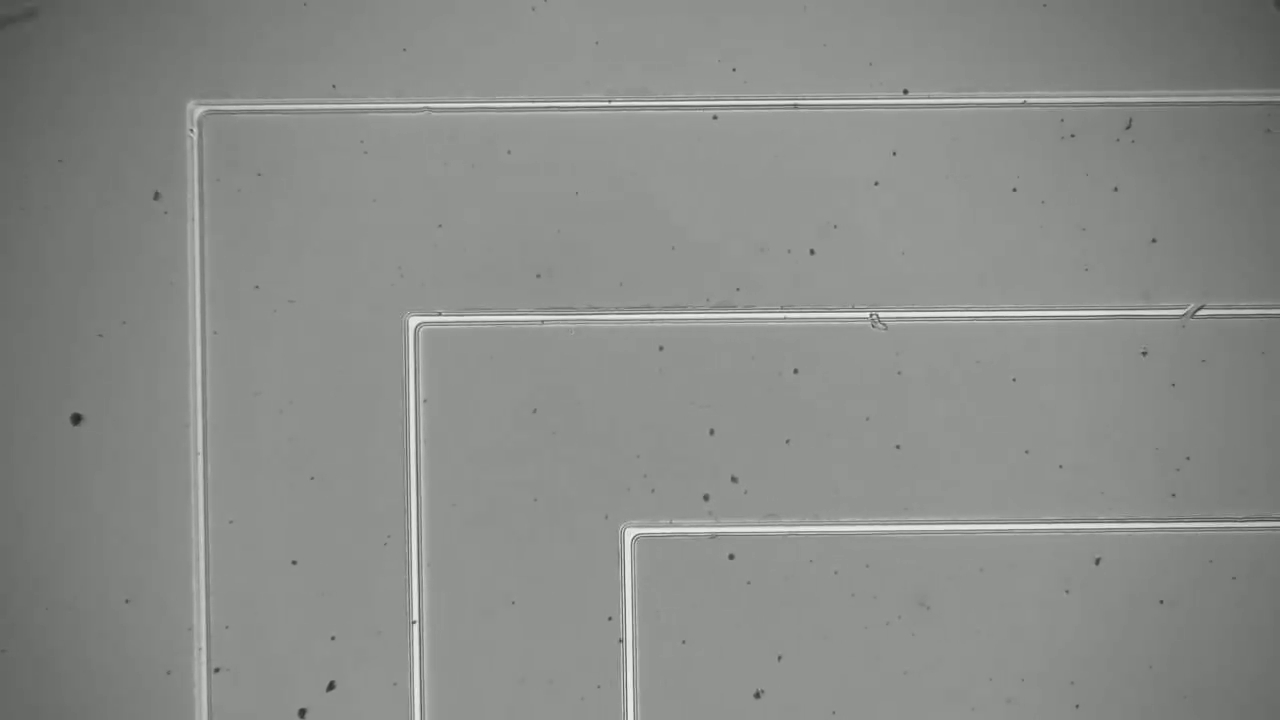open: (1178, 293, 1218, 336)
stains_enbedded: (860, 299, 897, 342)
